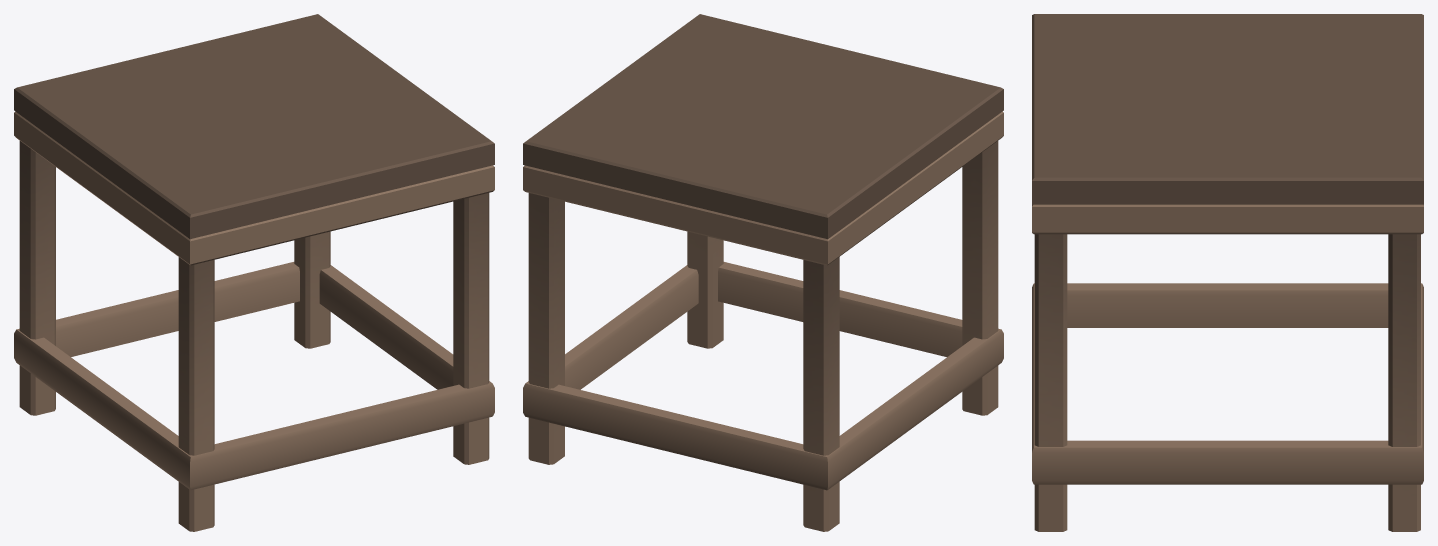
File: SmallTable.FBX
3 views of the same model, side by side, from view 1: azimuth 30°, elevation 25°; view 2: azimuth 150°, elevation 25°; view 3: azimuth 270°, elevation 25° (orthographic). The views are drawn at different scales.
Parts seen in each view (by area): view 1: SmallTable; view 2: SmallTable; view 3: SmallTable.
Boxes of the visible parts, left/top/right/bottom form: SmallTable: left=14, top=14, right=494, bottom=531; SmallTable: left=523, top=14, right=1003, bottom=531; SmallTable: left=1032, top=14, right=1423, bottom=531.
Size of the model in its own units: 15.75 by 15.72 by 15.75.
